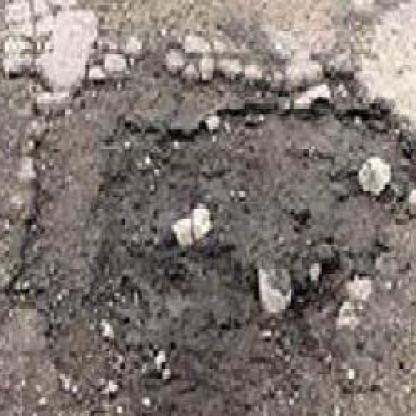pothole: (17, 49, 416, 416)
